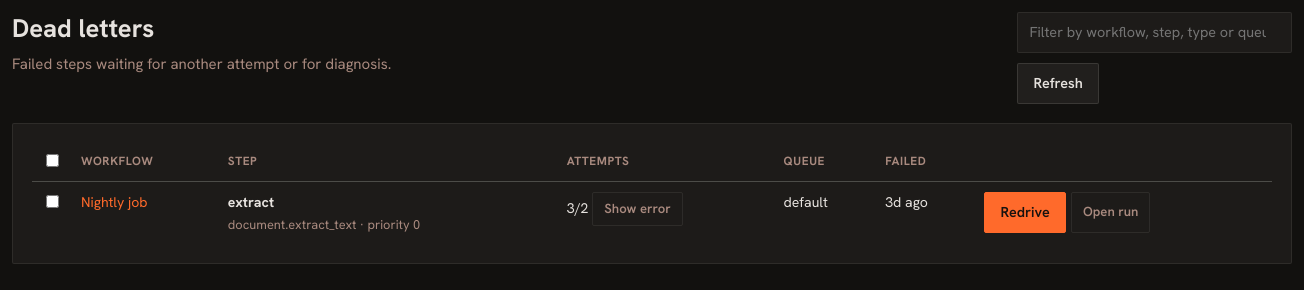
Test: DlqPage › filters entries by workflow name
Check: the link "Nightly job" is shown, box [81,193,148,211]
In the search field named "Filter dead letters": (1155, 33) [1017,12,1292,53], type "nothing-matches"
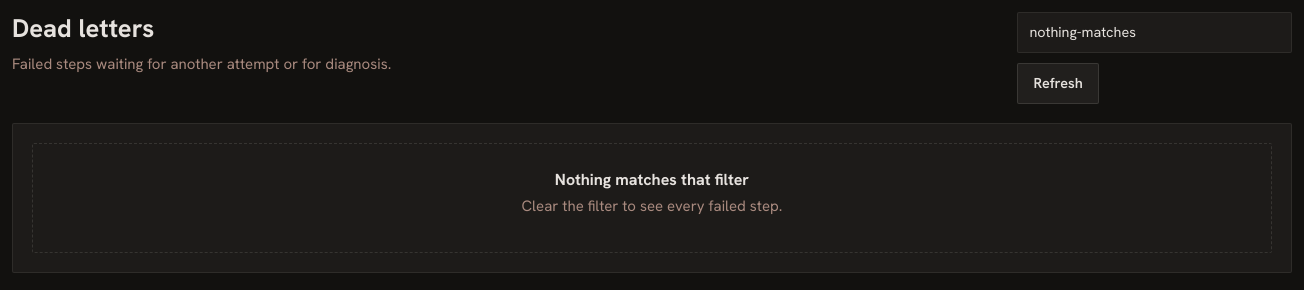
Check: the heading "Nothing matches that filter" is shown, box [555,169,749,190]
